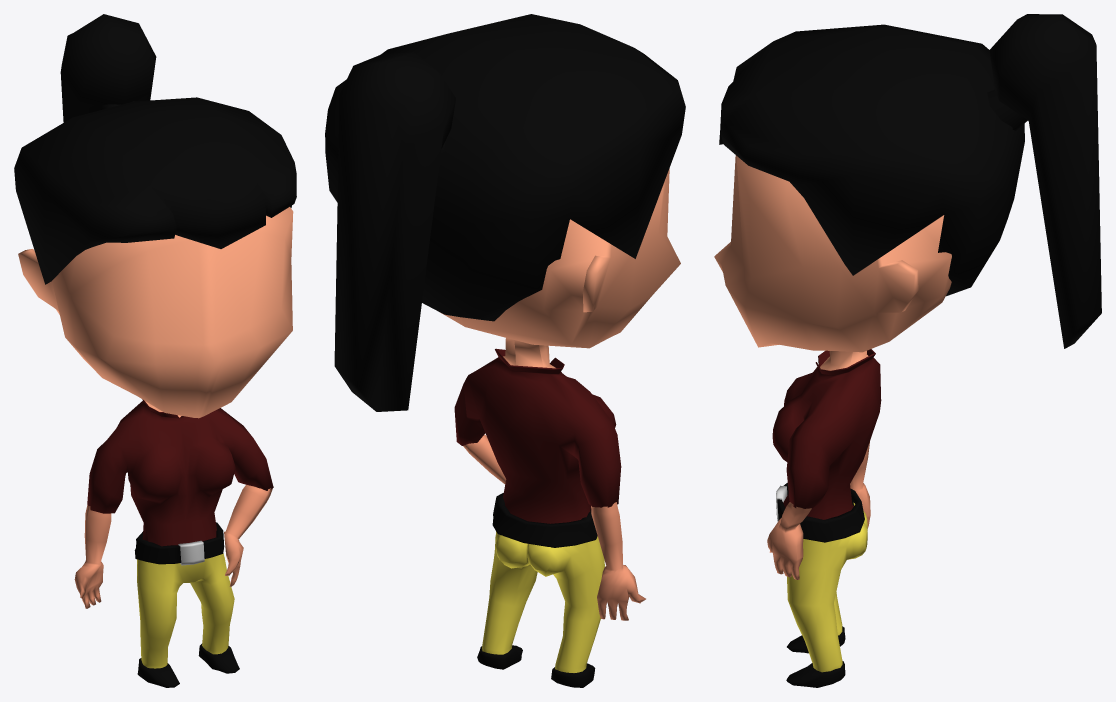
The model's file is Female NPC - Red shirt,yellow pants.FBX.
3 views of the same model, side by side, from view 1: azimuth 30°, elevation 25°; view 2: azimuth 150°, elevation 25°; view 3: azimuth 270°, elevation 25° (orthographic). The views are drawn at different scales.
Visible parts, largest first — view 1: Group001; view 2: Group001; view 3: Group001.
Boxes of the visible parts, x1,y1,x2,y2 form: Group001: [14, 14, 296, 687]; Group001: [325, 14, 685, 687]; Group001: [714, 14, 1101, 687].
Bounding box in the file's own units: 84.6 × 105 × 197.
